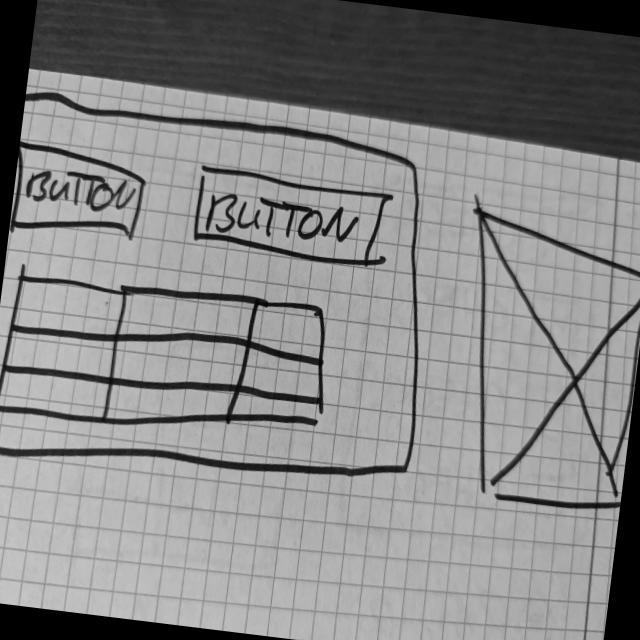button: (188, 164, 392, 274), (9, 137, 148, 245)
container: (0, 86, 452, 505)
image: (439, 206, 640, 520)
table: (0, 261, 341, 453)
